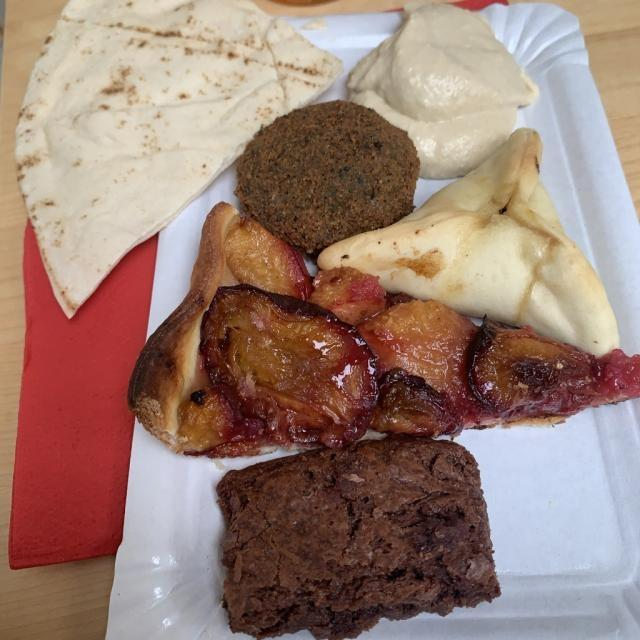brownie: (217, 444, 499, 631)
falafel-balls: (227, 99, 422, 251)
hummus: (339, 6, 537, 181)
pie: (152, 226, 630, 450)
